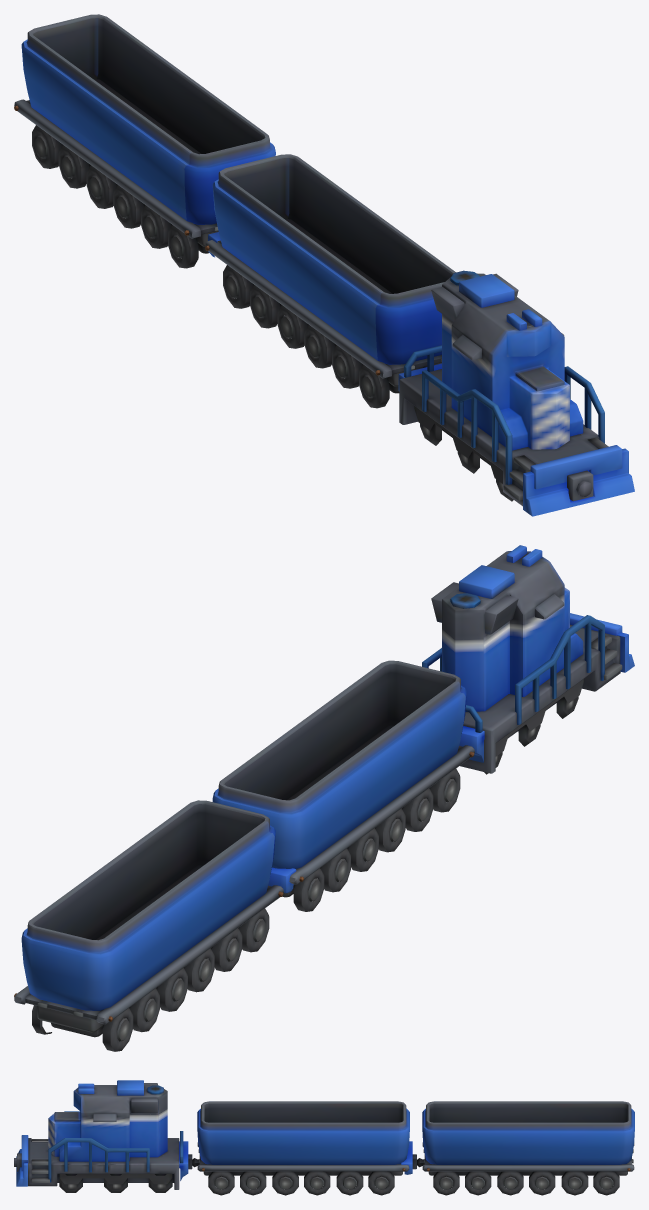
3 views of the same model, one above another, from view 1: azimuth 30°, elevation 25°; view 2: azimuth 150°, elevation 25°; view 3: azimuth 270°, elevation 25° (orthographic). The views are drawn at different scales.
Visible parts, largest first — view 1: SM_火车; view 2: SM_火车; view 3: SM_火车.
Boxes of the visible parts, <box> form: SM_火车: <box>14,14,634,516</box>; SM_火车: <box>14,545,634,1051</box>; SM_火车: <box>14,1080,634,1195</box>.
Size of the model in its own units: 1.49 by 2.31 by 13.08.
1 material, 1 textured.
